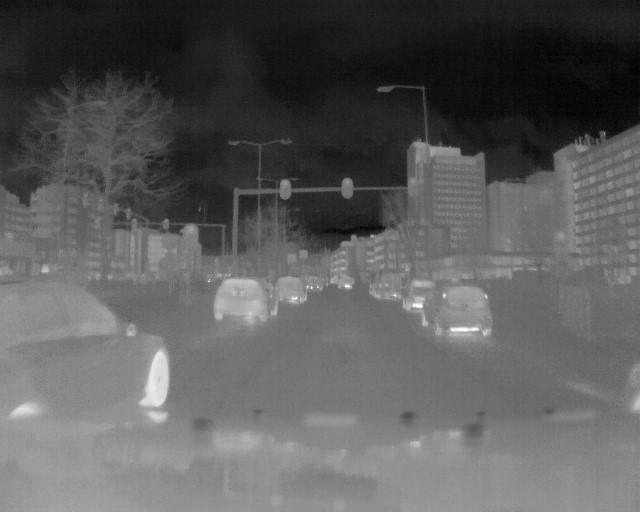car: (1, 285, 184, 418), (421, 282, 496, 346), (212, 276, 284, 324), (401, 276, 429, 314), (280, 273, 310, 306)
